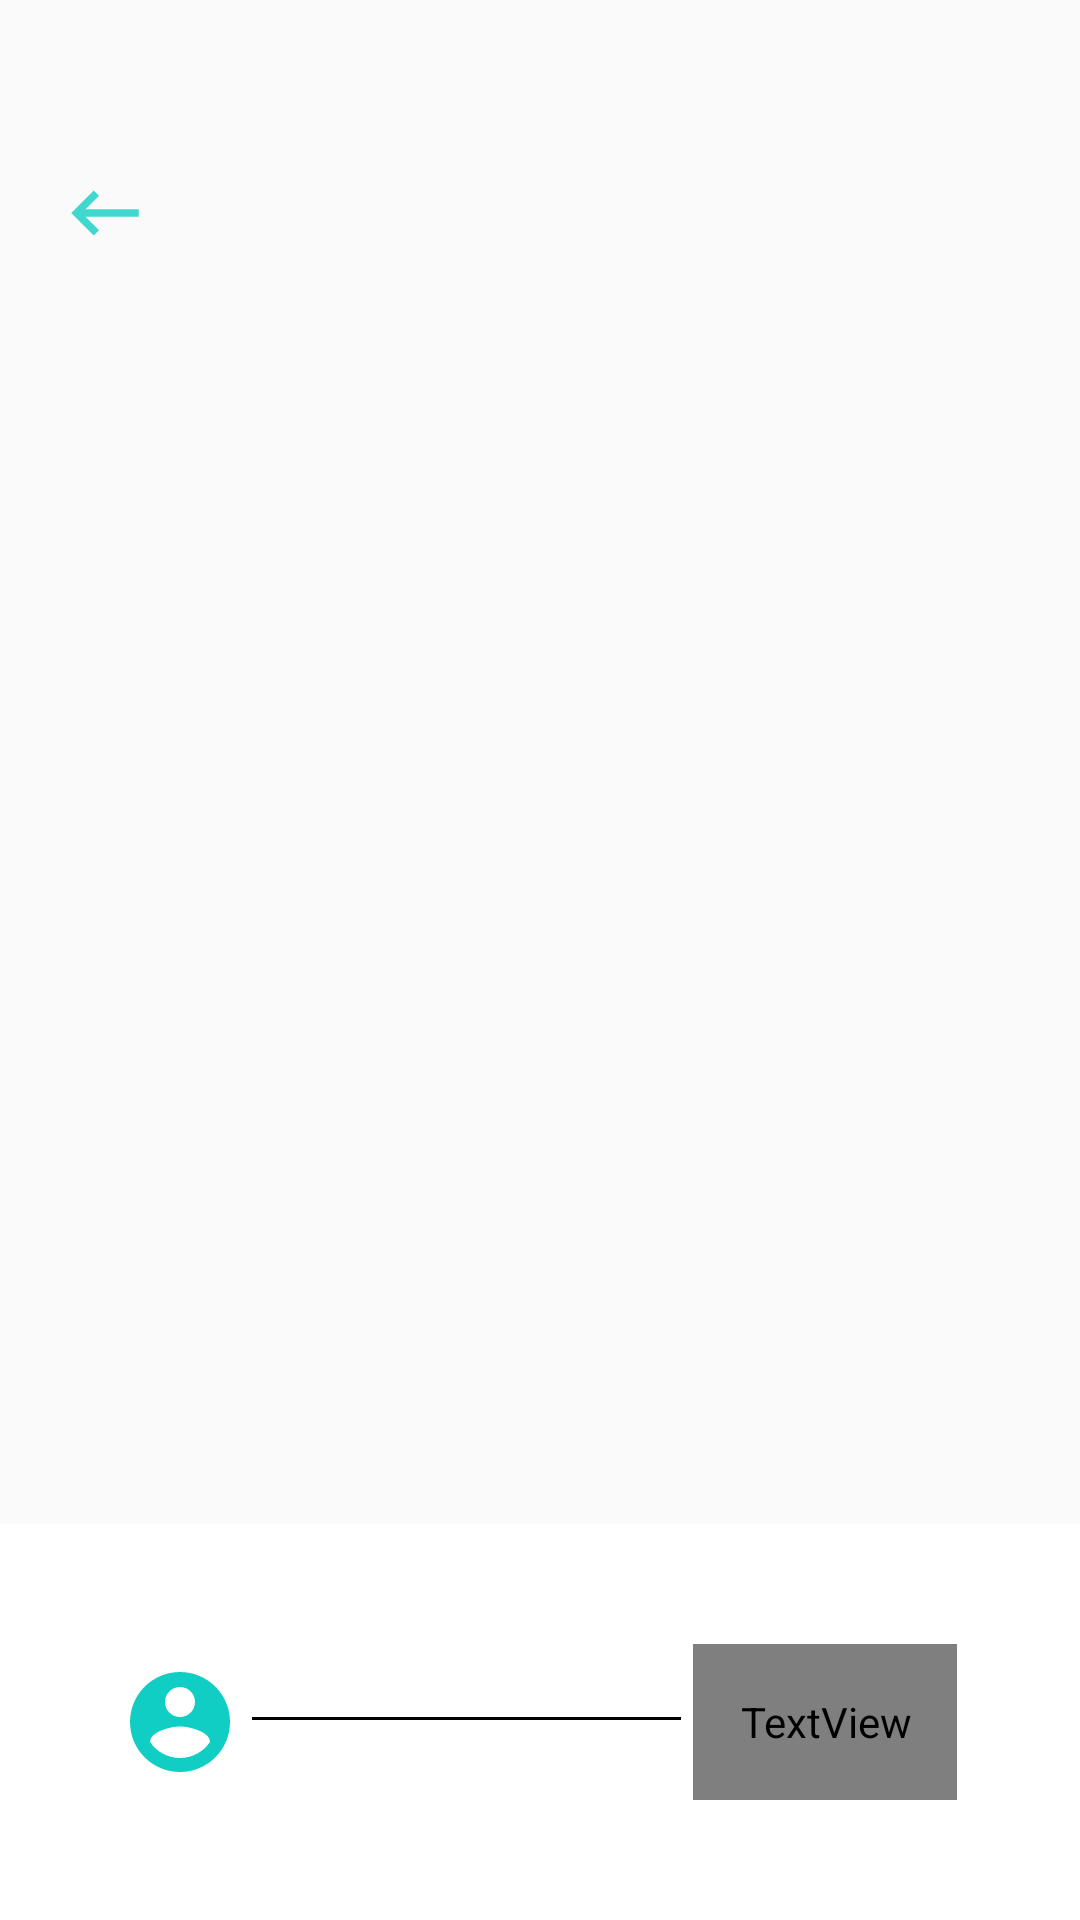

Screen size 1080x1920. Icon name, then its center in pixels as (x,y):
account circle: (180,1722)
back: (105,213)
